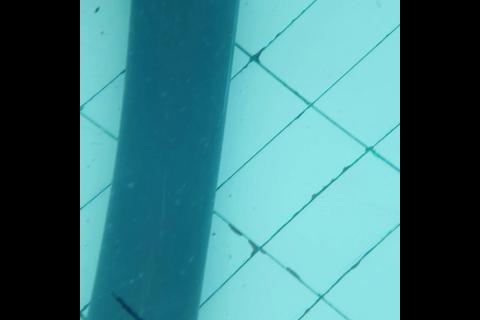keretakan: (109, 292, 175, 320)
